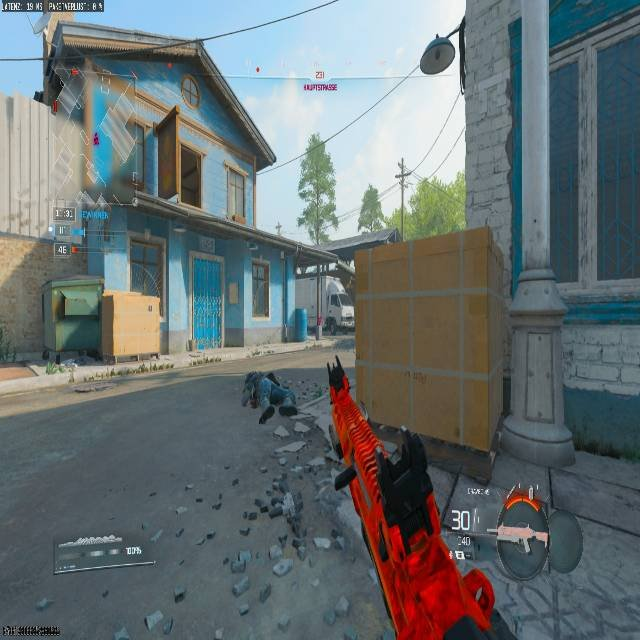player: (324, 279, 352, 330), (325, 314, 336, 336)
